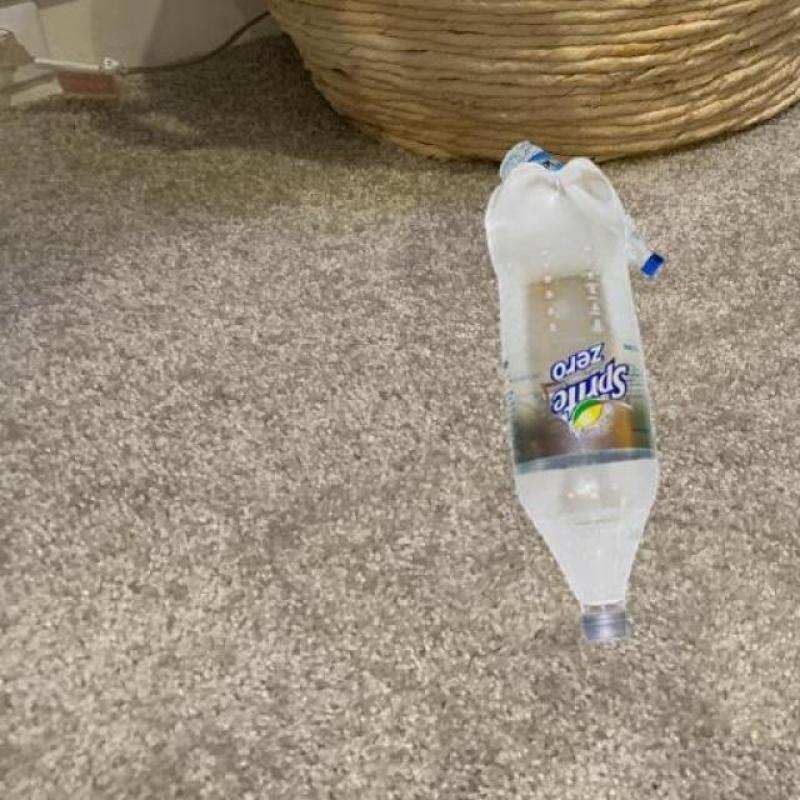botella: (490, 159, 658, 640), (495, 142, 665, 277)
